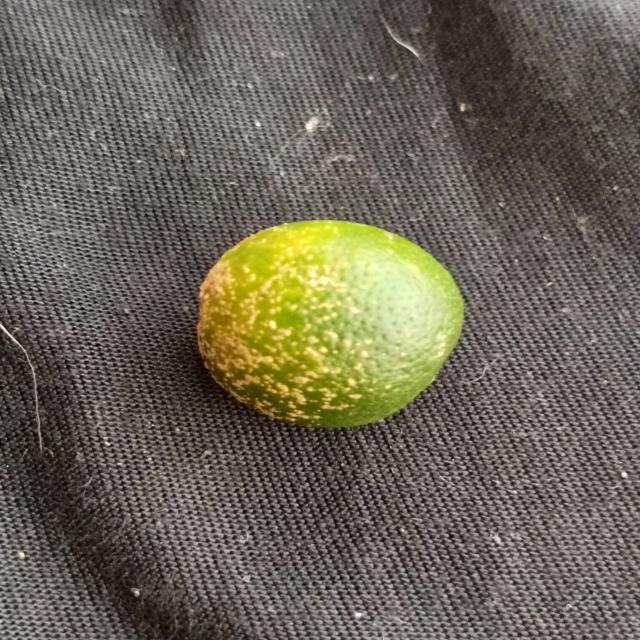scab: (185, 220, 468, 430)
